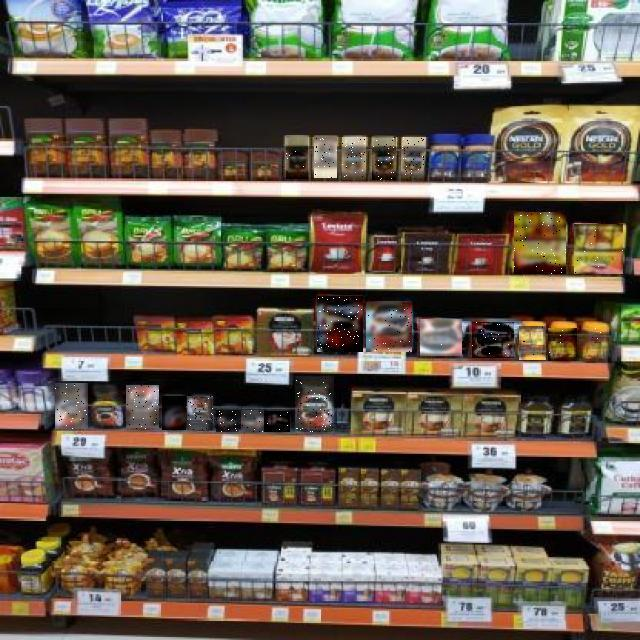Coffee: (514, 212, 566, 274), (317, 296, 363, 352), (574, 224, 623, 274), (366, 302, 412, 352), (295, 376, 334, 433), (420, 320, 462, 358), (56, 383, 90, 429), (472, 322, 514, 358), (126, 386, 159, 430), (372, 137, 396, 181), (343, 137, 367, 180), (579, 328, 609, 361), (402, 137, 424, 181), (314, 137, 337, 179), (548, 328, 577, 361), (286, 136, 308, 179), (519, 326, 546, 360), (187, 396, 213, 430), (162, 396, 186, 430), (265, 411, 291, 432), (216, 410, 239, 432), (241, 410, 264, 432)
